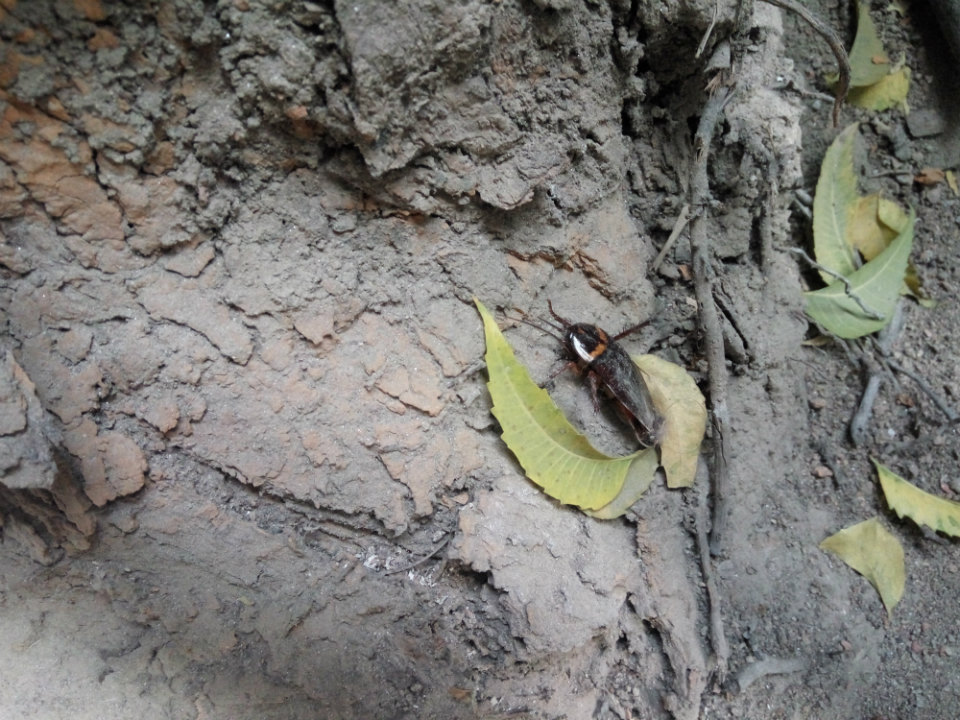cockroach: (509, 286, 695, 463)
